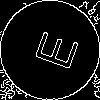E: (25, 25, 80, 72)
